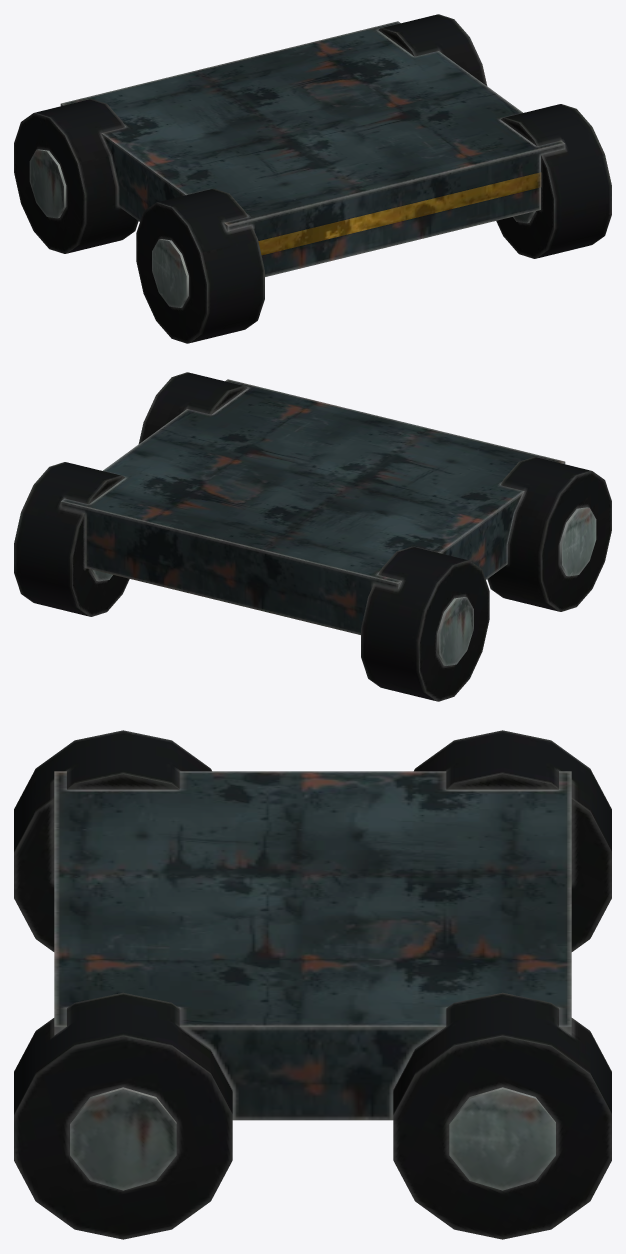
The model's file is wheel.glb.
3 views of the same model, one above another, from view 1: azimuth 30°, elevation 25°; view 2: azimuth 150°, elevation 25°; view 3: azimuth 270°, elevation 25° (orthographic). The views are drawn at different scales.
Visible parts, largest first — view 1: te_wheel; view 2: te_wheel; view 3: te_wheel.
Part boxes in pixels (bbox=[...]): te_wheel: bbox=[14, 14, 611, 343]; te_wheel: bbox=[14, 372, 611, 701]; te_wheel: bbox=[14, 730, 611, 1239].
Bounding box in the file's own units: 0.85 × 0.26 × 0.6935.
Materials: 1 (1 with a texture image).
